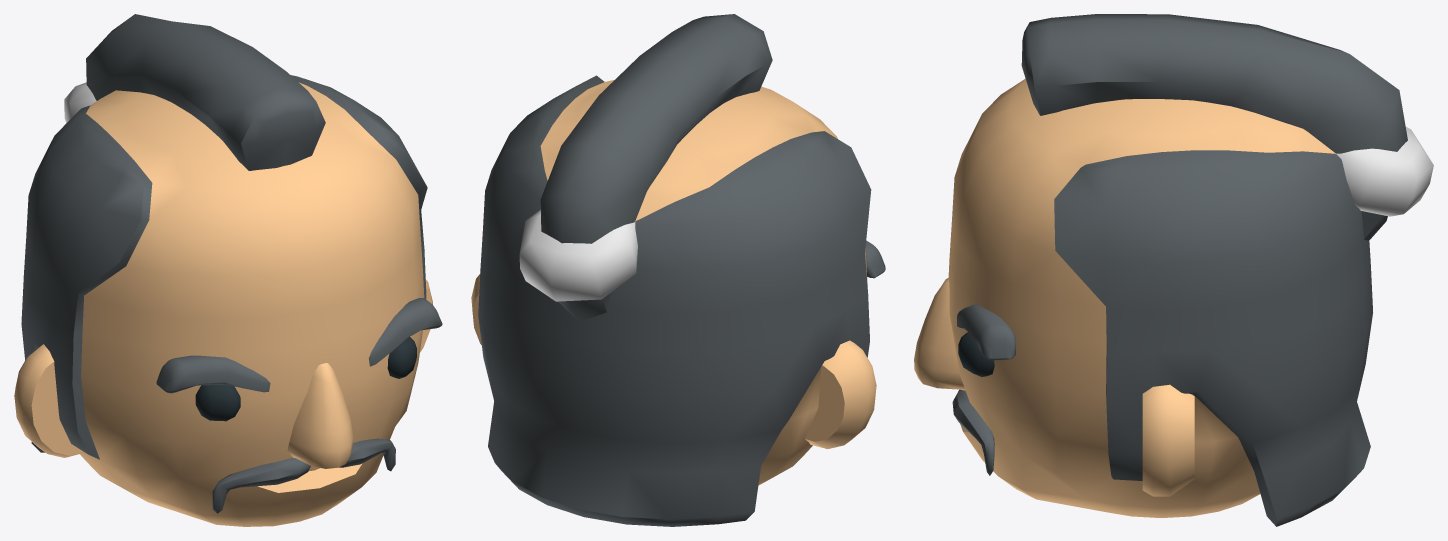
The model's file is character_samurai_head_hair.dae.
3 renders of one model, left to right at view 1: azimuth 30°, elevation 25°; view 2: azimuth 150°, elevation 25°; view 3: azimuth 270°, elevation 25°, orthographic. The views are drawn at different scales.
Parts seen in each view (by area): view 1: character_samurai_head_hair; view 2: character_samurai_head_hair; view 3: character_samurai_head_hair.
Boxes of the visible parts, <box> form: character_samurai_head_hair: <box>14,14,442,526</box>; character_samurai_head_hair: <box>471,14,885,526</box>; character_samurai_head_hair: <box>914,14,1433,526</box>.
Size of the model in its own units: 1.18 by 1.21 by 1.17.
